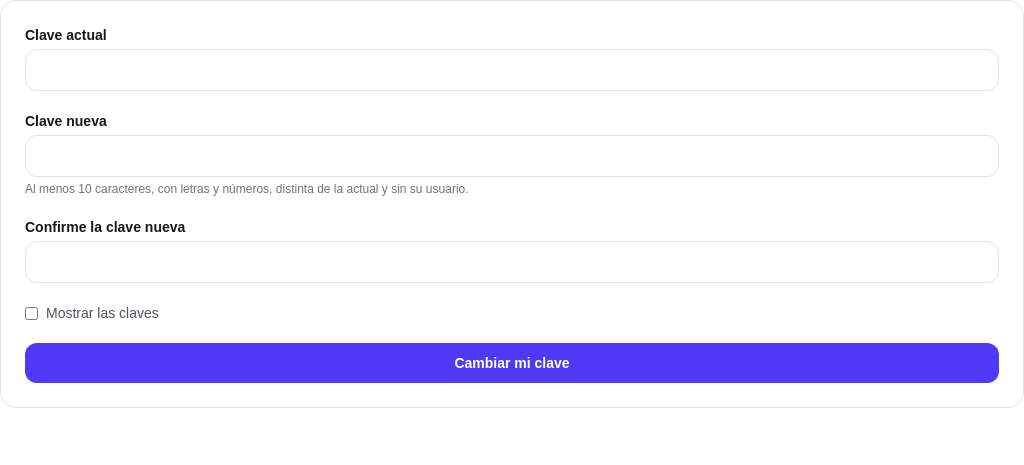
CambiarClaveForm › envía las tres, confirma el cambio y borra los campos
The image size is (1024, 465).
In the password field labelled "Clave actual": point(512, 70) 25,49 -> 999,91, type "Inicial-Ab12-Cd34"
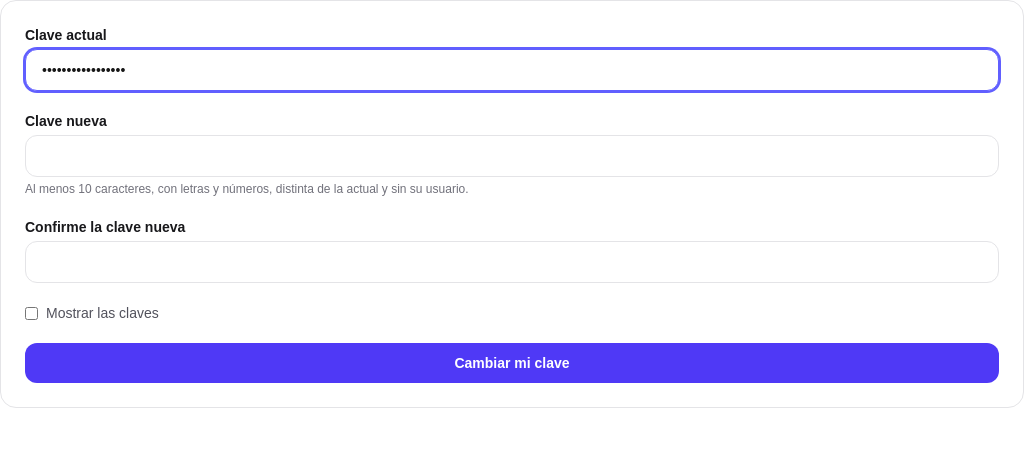
In the password field labelled "Clave nueva": point(512, 156) 25,135 -> 999,177, type "MiClaveNueva2026"
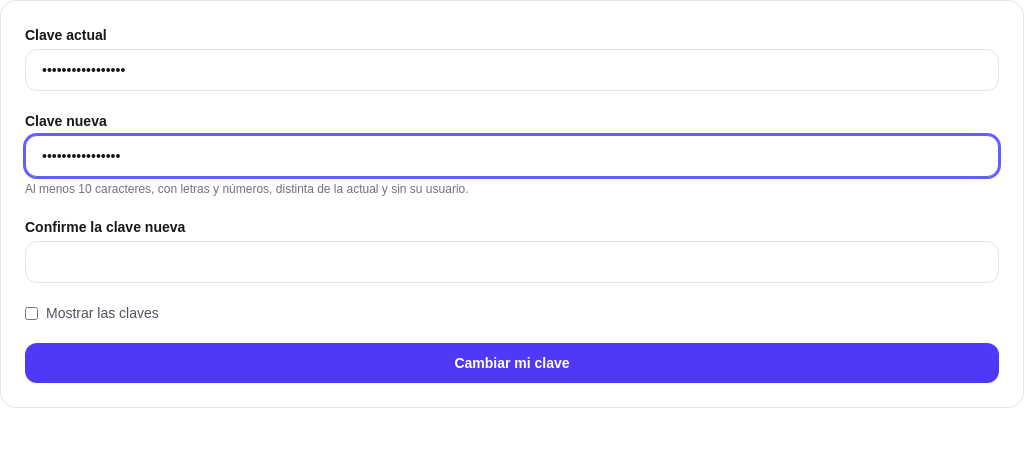
In the password field labelled "Confirme la clave nueva": point(512, 262) 25,241 -> 999,283, type "MiClaveNueva2026"
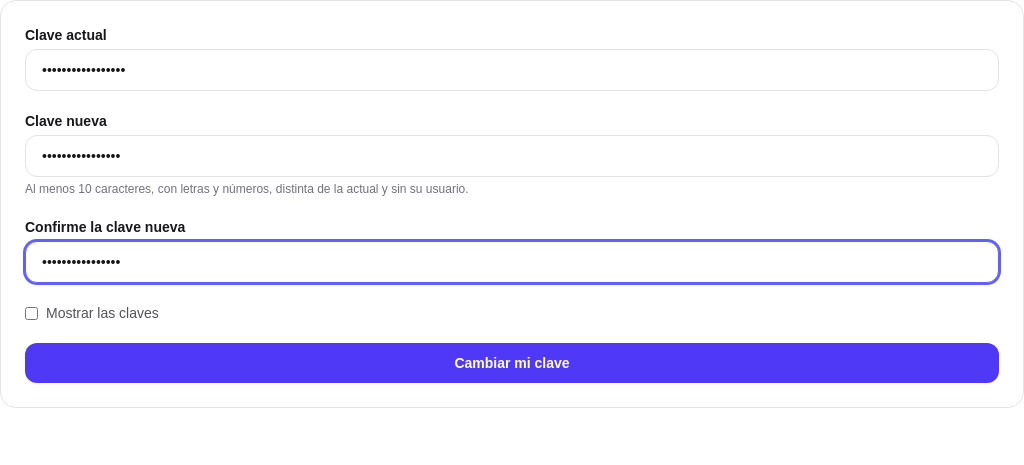
Click the button "Cambiar mi clave": point(512, 363) 25,343 -> 999,383
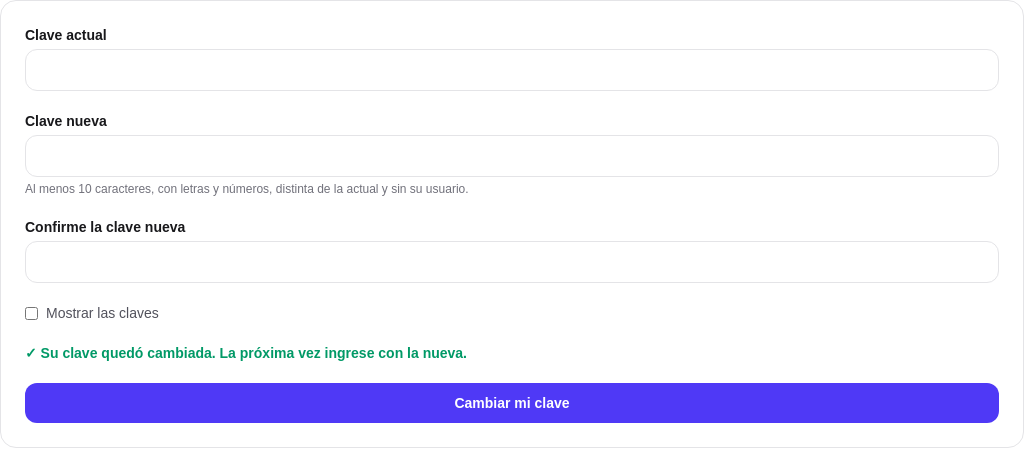
expect the message shows "Su clave quedó cambiada": met, box 25,345 -> 467,361
expect the password field labelled "Clave actual" is empty: met, box 25,49 -> 999,91
expect the password field labelled "Clave nueva" is empty: met, box 25,135 -> 999,177
